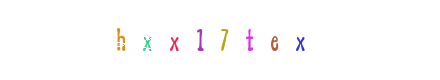1: (161, 0, 241, 80)
7: (180, 0, 260, 80)
E: (199, 0, 279, 80)
H: (107, 0, 187, 80)
T: (184, 0, 264, 80)
X: (134, 0, 214, 80), (144, 0, 224, 80), (260, 0, 340, 80)
